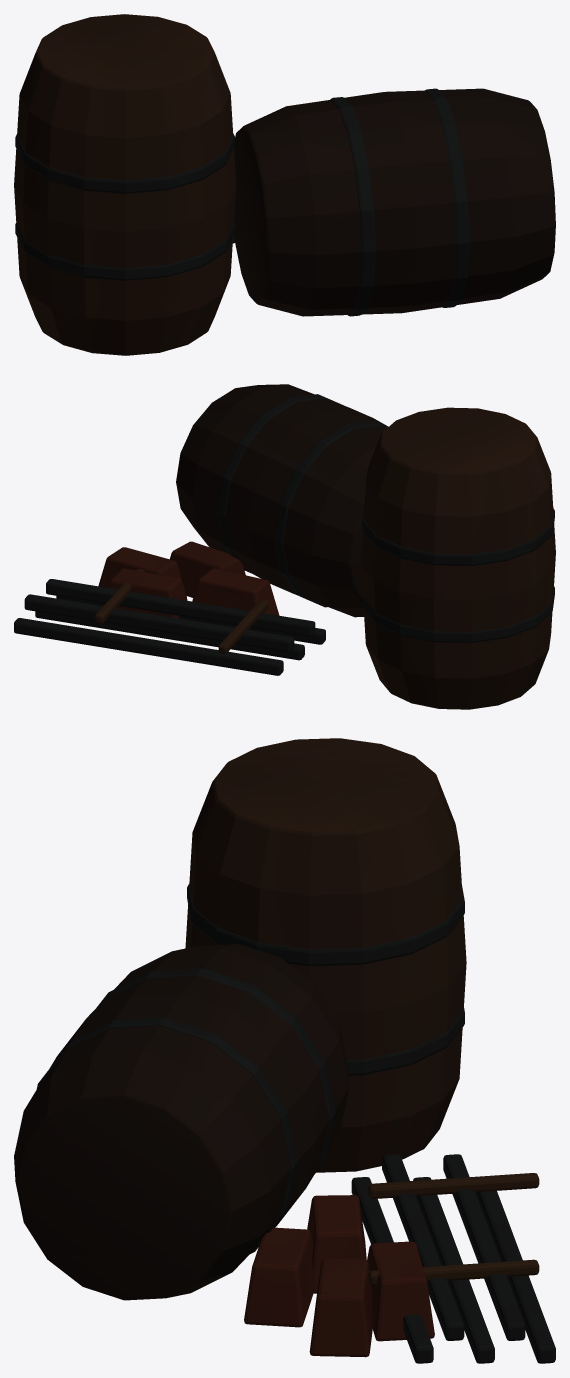
File: barrelled_herring_metal.glb
3 renders of one model, top to bottom at view 1: azimuth 30°, elevation 25°; view 2: azimuth 150°, elevation 25°; view 3: azimuth 270°, elevation 25°, orthographic. The views are drawn at different scales.
Visible parts, largest first — view 1: BarrelledHerringMetalCargo; view 2: BarrelledHerringMetalCargo; view 3: BarrelledHerringMetalCargo.
Boxes of the visible parts, x1,y1,x2,y2 form: BarrelledHerringMetalCargo: (14, 14, 555, 355); BarrelledHerringMetalCargo: (14, 384, 555, 709); BarrelledHerringMetalCargo: (14, 738, 555, 1363).
Bounding box in the file's own units: 1.35 × 0.68 × 0.9759.
Materials: 6 (6 with a texture image).
